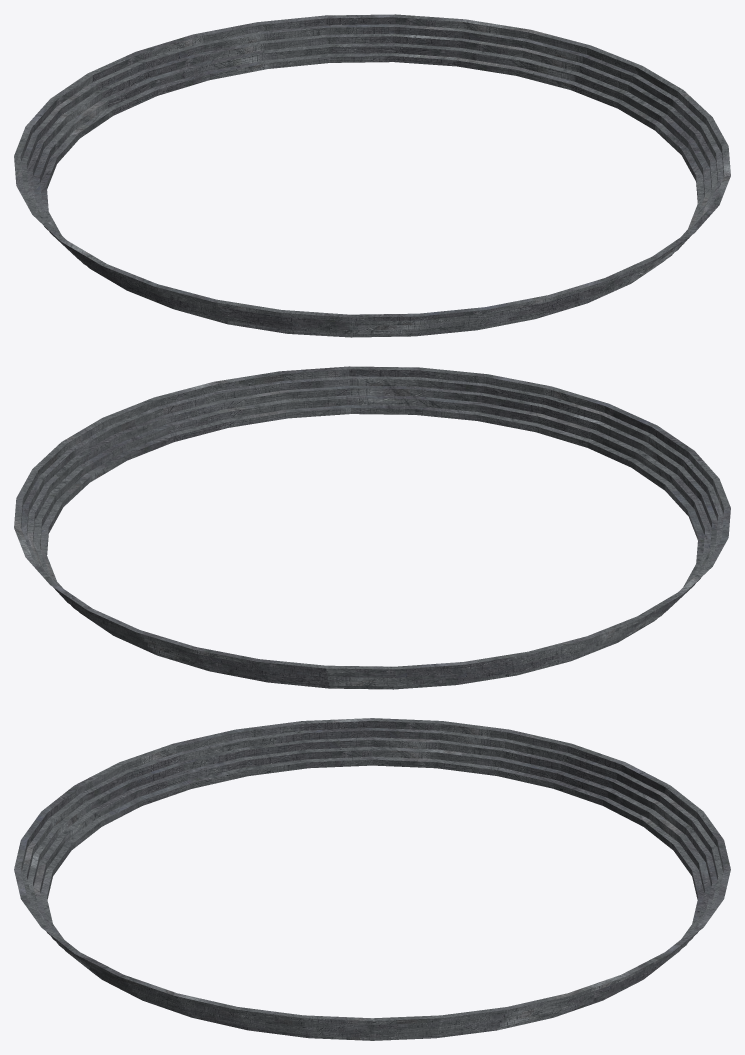
File: mdl_duc_sci_planetariumstairs.glb
The picture shows the model from 3 angles, top to bottom: view 1: azimuth 30°, elevation 25°; view 2: azimuth 150°, elevation 25°; view 3: azimuth 270°, elevation 25°; orthographic projection.
Visible parts, largest first — view 1: Cylindrical Wall; view 2: Cylindrical Wall; view 3: Cylindrical Wall.
Boxes of the visible parts, x1,y1,x2,y2 form: Cylindrical Wall: (14, 14, 730, 337); Cylindrical Wall: (14, 366, 730, 689); Cylindrical Wall: (14, 718, 730, 1040).
Bounding box in the file's own units: 1.96 × 0.1034 × 1.96.
1 material, 1 textured.
